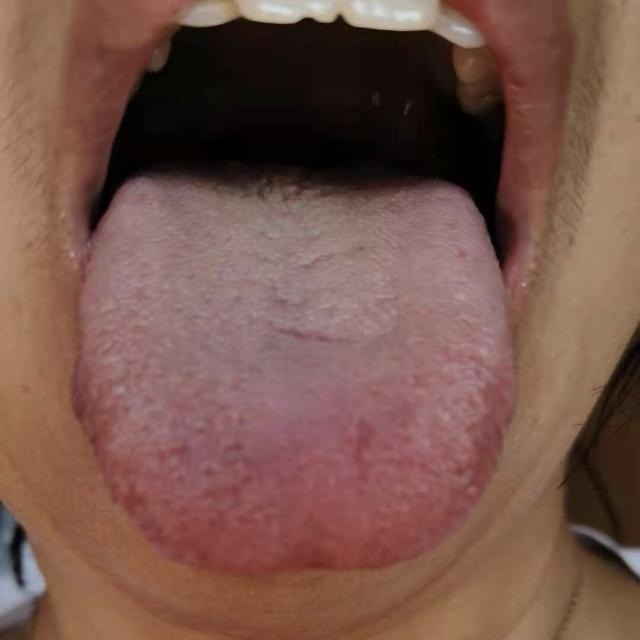baitaishe: (70, 166, 519, 577)
